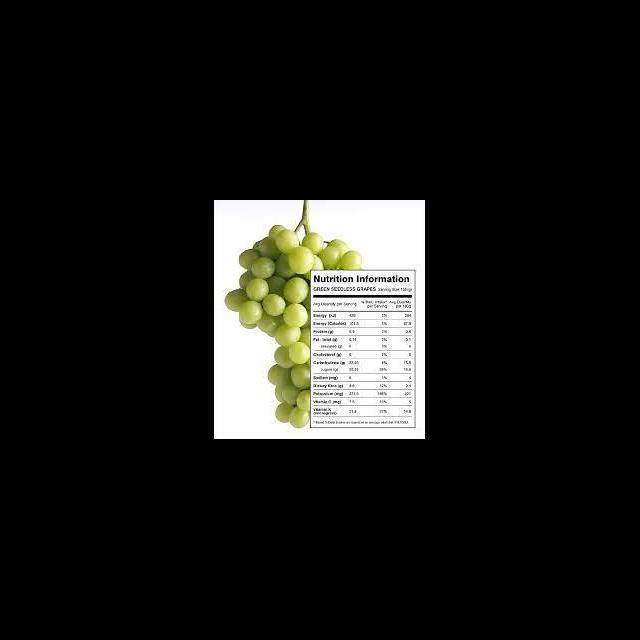grape: (225, 224, 362, 428)
